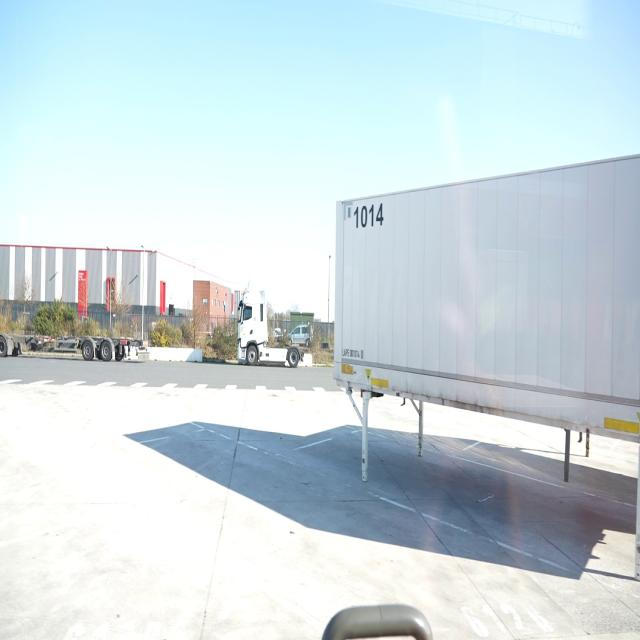Code: (352, 200, 388, 238)
